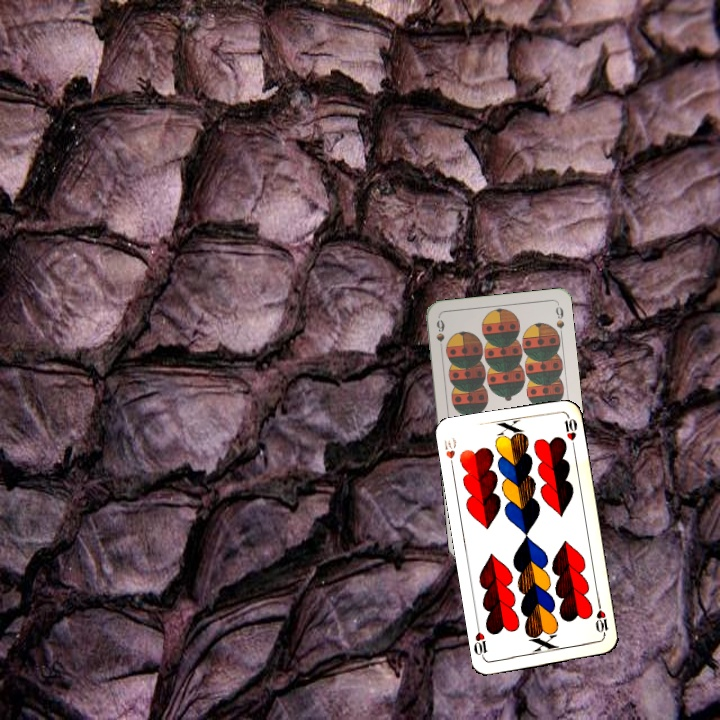H10: (591, 599, 611, 640), (440, 433, 459, 473)
S9: (432, 315, 447, 356)
